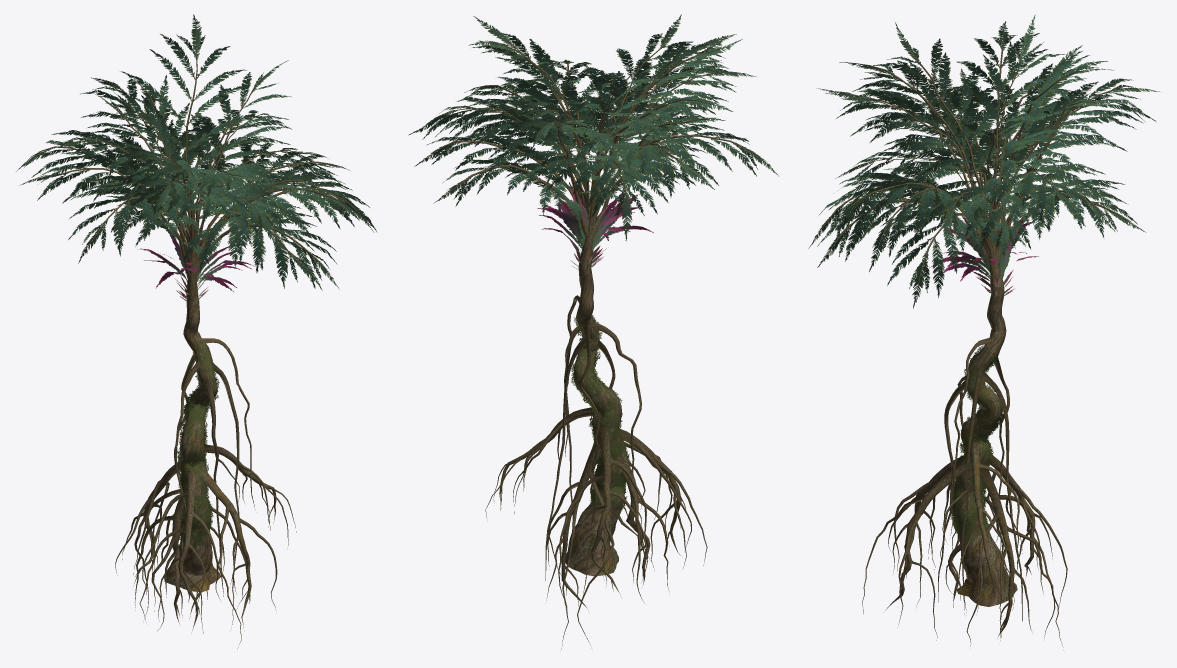
Rendered from Tree - Alien Tree 02 1-BUUKJb5c.glb.
3 renders of one model, left to right at view 1: azimuth 30°, elevation 25°; view 2: azimuth 150°, elevation 25°; view 3: azimuth 270°, elevation 25°, orthographic. The views are drawn at different scales.
Parts seen in each view (by area): view 1: Tree_02(Clone); view 2: Tree_02(Clone); view 3: Tree_02(Clone).
Part boxes in pixels (x1,y1,x2,y2): Tree_02(Clone): (16,14,377,648); Tree_02(Clone): (408,14,778,649); Tree_02(Clone): (808,14,1161,647).
Size of the model in its own units: 9.05 by 16.31 by 8.5.
Materials: 2 (2 with a texture image).
